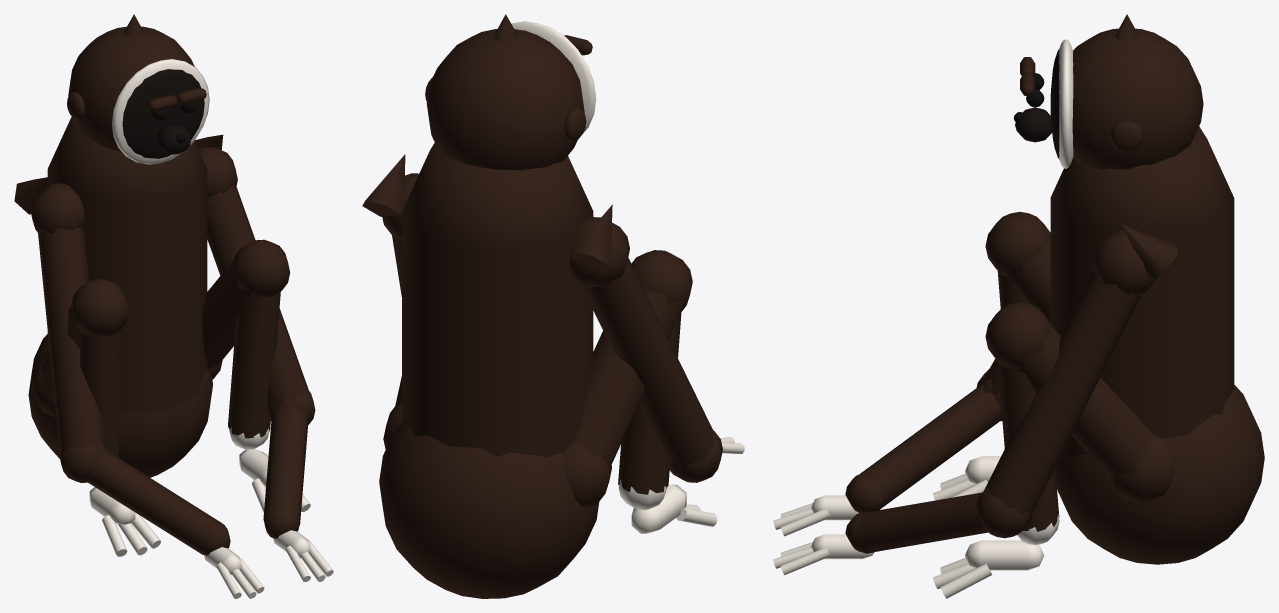
The model's file is gibbon.glb.
3 views of the same model, side by side, from view 1: azimuth 30°, elevation 25°; view 2: azimuth 150°, elevation 25°; view 3: azimuth 270°, elevation 25° (orthographic). The views are drawn at different scales.
Visible parts, largest first — view 1: Mesh_Torso, Mesh_UpperArm_R, Mesh_Pelvis, Mesh_Head, Mesh_Shin_L, Mesh_Forearm_R, Mesh_UpperArm_L, Mesh_FaceSkin, Mesh_Forearm_L, Mesh_Shin_R, Mesh_Thigh_L, Mesh_Knee_R (+20 smaller); view 2: Mesh_Torso, Mesh_Pelvis, Mesh_Head, Mesh_UpperArm_R, Mesh_Thigh_R, Mesh_Shin_R, Mesh_Knee_R, Mesh_Hip_R, Mesh_Shoulder_R, Mesh_FaceRing, Mesh_ShoulderTuft_L, Mesh_ShoulderTuft_R (+6 smaller); view 3: Mesh_Torso, Mesh_Pelvis, Mesh_Head, Mesh_UpperArm_L, Mesh_Forearm_R, Mesh_Thigh_L, Mesh_Forearm_L, Mesh_Knee_L, Mesh_Shin_L, Mesh_Knee_R, Mesh_Hip_L, Mesh_Shoulder_L (+13 smaller).
Part boxes in pixels (x1=…): Mesh_Torso: x1=47, y1=117, x2=207, y2=415; Mesh_UpperArm_R: x1=38, y1=227, x2=105, y2=453; Mesh_Pelvis: x1=28, y1=334, x2=212, y2=477; Mesh_Head: x1=68, y1=26, x2=194, y2=152; Mesh_Shin_L: x1=228, y1=291, x2=280, y2=438; Mesh_Forearm_R: x1=86, y1=450, x2=222, y2=554; Mesh_UpperArm_L: x1=207, y1=185, x2=308, y2=410; Mesh_FaceSkin: x1=122, y1=69, x2=204, y2=158; Mesh_Forearm_L: x1=263, y1=405, x2=308, y2=525; Mesh_Shin_R: x1=80, y1=331, x2=119, y2=457; Mesh_Thigh_L: x1=202, y1=260, x2=251, y2=369; Mesh_Knee_R: x1=71, y1=279, x2=128, y2=336; Mesh_Torso: x1=402, y1=143, x2=593, y2=457; Mesh_Pelvis: x1=379, y1=422, x2=599, y2=598; Mesh_Head: x1=426, y1=29, x2=584, y2=170; Mesh_UpperArm_R: x1=582, y1=258, x2=715, y2=469; Mesh_Thigh_R: x1=571, y1=288, x2=683, y2=468; Mesh_Shin_R: x1=618, y1=313, x2=681, y2=494; Mesh_Knee_R: x1=631, y1=250, x2=692, y2=314; Mesh_Hip_R: x1=563, y1=444, x2=611, y2=506; Mesh_Shoulder_R: x1=569, y1=217, x2=629, y2=287; Mesh_FaceRing: x1=511, y1=21, x2=596, y2=133; Mesh_ShoulderTuft_L: x1=569, y1=204, x2=612, y2=271; Mesh_ShoulderTuft_R: x1=362, y1=154, x2=405, y2=217; Mesh_Torso: x1=1050, y1=126, x2=1234, y2=462; Mesh_Pelvis: x1=1055, y1=385, x2=1264, y2=564; Mesh_Head: x1=1072, y1=28, x2=1203, y2=169; Mesh_UpperArm_L: x1=984, y1=271, x2=1141, y2=517; Mesh_Forearm_R: x1=858, y1=385, x2=1002, y2=509; Mesh_Thigh_L: x1=1007, y1=327, x2=1154, y2=478; Mesh_Forearm_L: x1=853, y1=492, x2=988, y2=553; Mesh_Knee_L: x1=985, y1=302, x2=1051, y2=369; Mesh_Shin_L: x1=997, y1=361, x2=1059, y2=531; Mesh_Knee_R: x1=985, y1=212, x2=1050, y2=276; Mesh_Hip_L: x1=1107, y1=435, x2=1174, y2=502; Mesh_Shoulder_L: x1=1092, y1=230, x2=1158, y2=295.
Size of the model in its own units: 0.436 by 0.78 by 0.6424.
